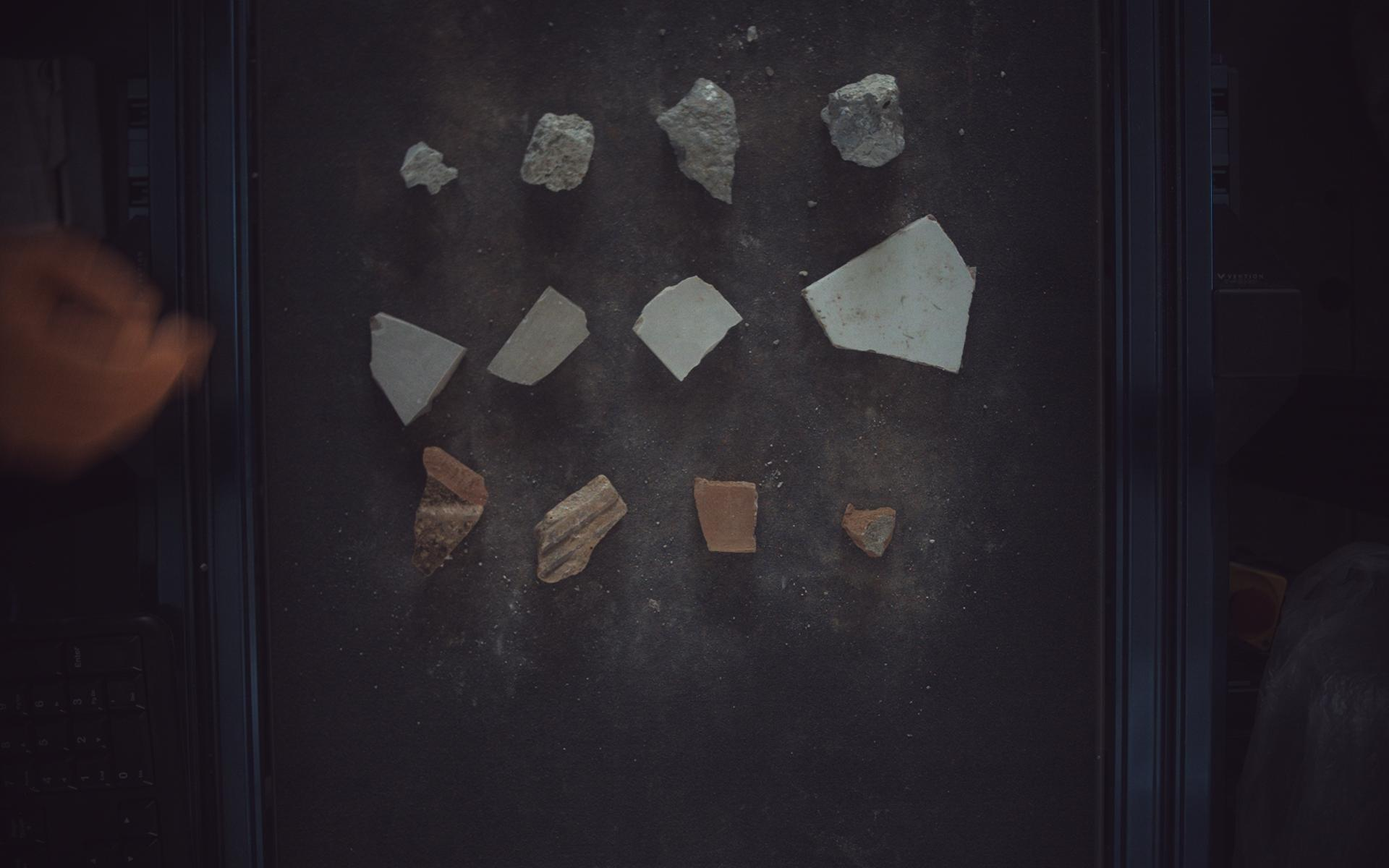brick: (535, 475, 628, 584), (412, 447, 488, 575), (695, 477, 759, 553), (844, 504, 898, 558)
concrete: (658, 77, 741, 203), (823, 72, 906, 166), (521, 112, 595, 191), (400, 140, 458, 193)
tile: (805, 213, 977, 372), (634, 276, 743, 380), (370, 312, 467, 425), (488, 286, 590, 386)
